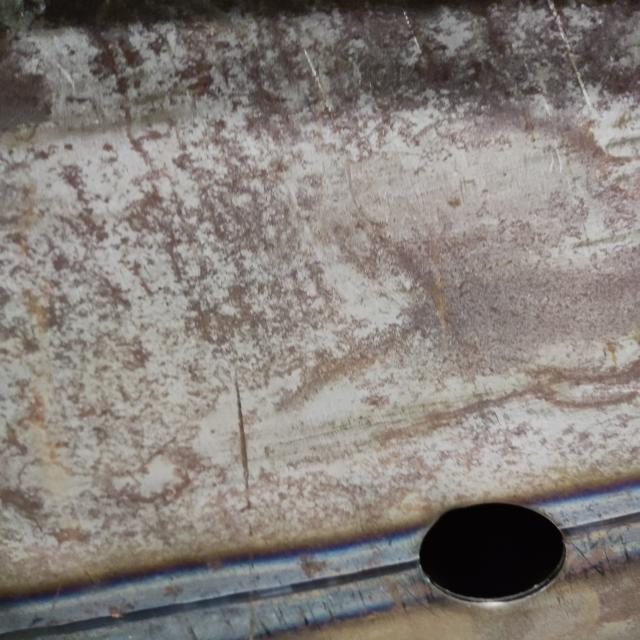seam: (0, 465, 640, 640)
